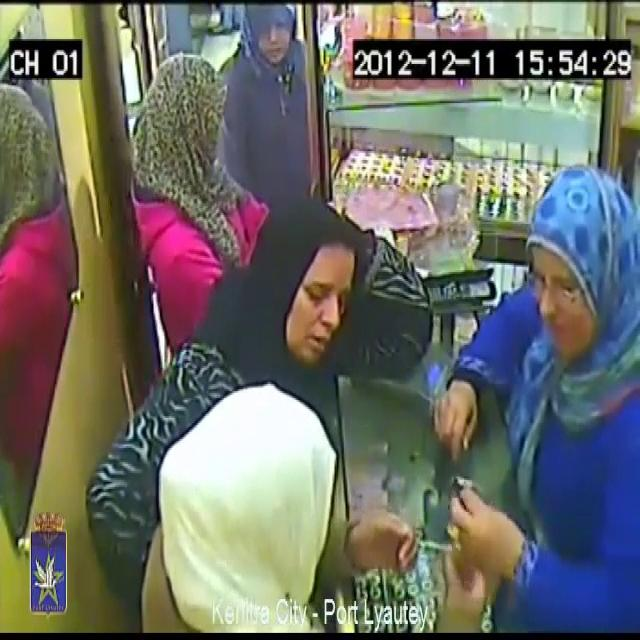Product: (456, 470, 478, 513)
normal: (121, 371, 471, 640), (108, 39, 240, 307), (246, 195, 378, 412), (223, 0, 323, 188)
shoplifting: (456, 130, 640, 640)
